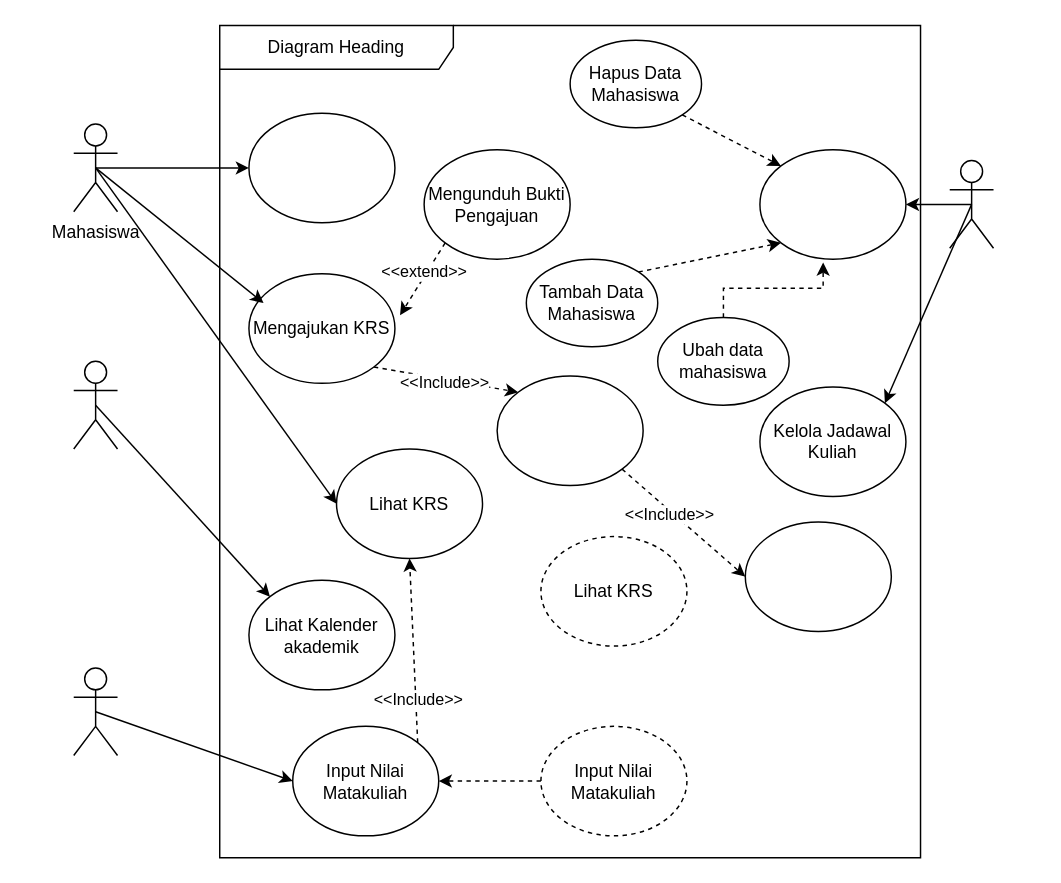
The diagram is 1061 pixels wide and 883 high, and some of its shapes have lost their labels. Here are the shapes that lost their labels. From the top down, the centre of each, then its label:
At [321,167]: "Melihat Jadwal Kuliah".
At [832,203]: "Kelola Data Mahasiswa".
At [971,203]: "Admin akademik".
At [95,404]: "Civilitas akademik".
At [569,429]: "Memvalidasi KRS".
At [817,575]: "Memperoses Persetujuan KRS".
At [95,711]: "Dosen".
